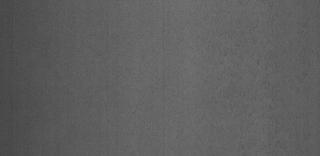silk spot: (190, 5, 310, 147)
